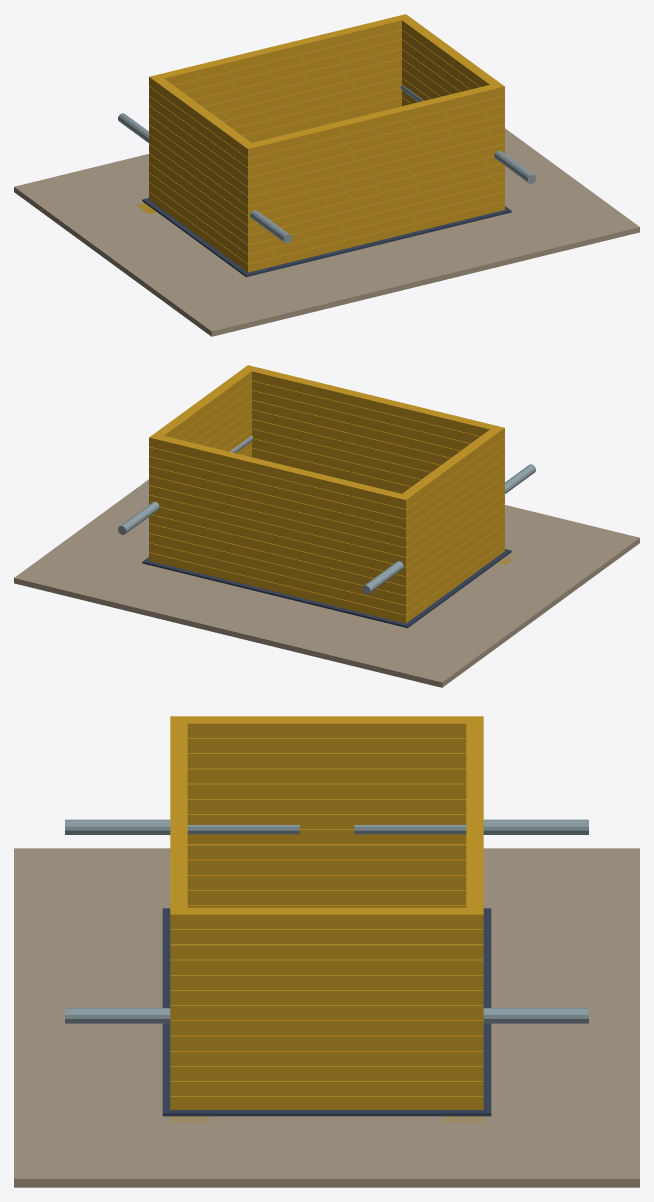
The model's file is stage_04_walls.glb.
The picture shows the model from 3 angles, top to bottom: view 1: azimuth 30°, elevation 25°; view 2: azimuth 150°, elevation 25°; view 3: azimuth 270°, elevation 25°; orthographic projection. The views are drawn at different scales.
Visible parts, largest first — view 1: world; view 2: world; view 3: world.
Boxes of the visible parts, bbox=[...] form: world: bbox=[14, 14, 639, 336]; world: bbox=[14, 365, 639, 687]; world: bbox=[14, 716, 639, 1187].
Size of the model in its own units: 10 by 3.6 by 8.
